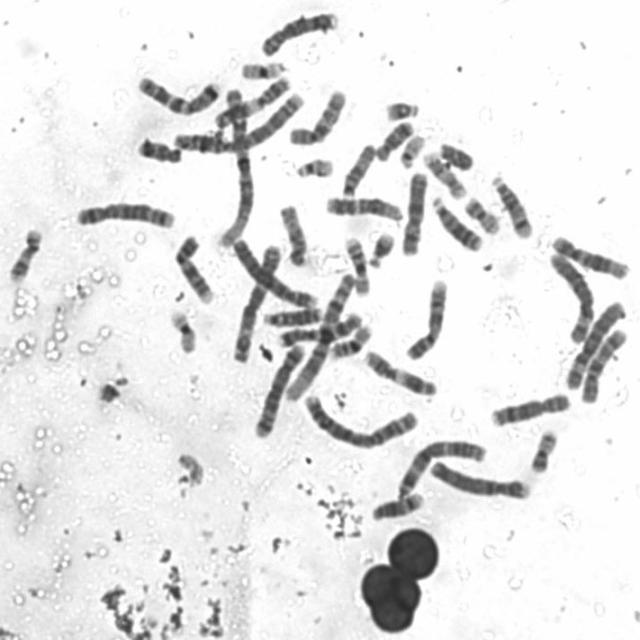A1: (281, 266, 360, 405), (216, 83, 257, 251)
A2: (167, 85, 306, 157), (299, 389, 421, 451)
A3: (228, 237, 284, 364), (392, 433, 490, 500)
B4: (228, 233, 318, 311), (425, 453, 535, 501)
B5: (249, 335, 309, 441), (71, 197, 177, 230)
C10: (575, 322, 630, 405), (284, 83, 348, 147)
C11: (210, 70, 295, 130), (359, 344, 439, 398)
C12: (547, 229, 633, 281), (320, 190, 406, 224)
C6: (559, 293, 627, 392), (544, 245, 598, 344)
C7: (133, 70, 223, 117), (274, 307, 366, 348)
C8: (258, 6, 341, 58), (486, 388, 573, 428)
C9: (401, 273, 450, 362), (169, 229, 217, 305)
D13: (428, 190, 486, 253), (258, 302, 324, 328)
D14: (486, 168, 536, 240), (367, 488, 426, 523)
D15: (337, 138, 378, 200), (274, 200, 310, 268)
E16: (325, 318, 375, 361), (341, 232, 373, 298)
E17: (419, 148, 469, 200), (5, 222, 44, 284)
E18: (372, 115, 417, 163), (133, 132, 185, 166)
F19: (165, 304, 200, 355), (236, 55, 289, 81)
F20: (459, 192, 502, 236), (526, 424, 560, 474)
G21: (364, 227, 397, 270), (381, 96, 421, 122)
G22: (394, 128, 427, 170), (292, 152, 336, 180)
X: (397, 166, 431, 257)
Y: (435, 137, 476, 172)
